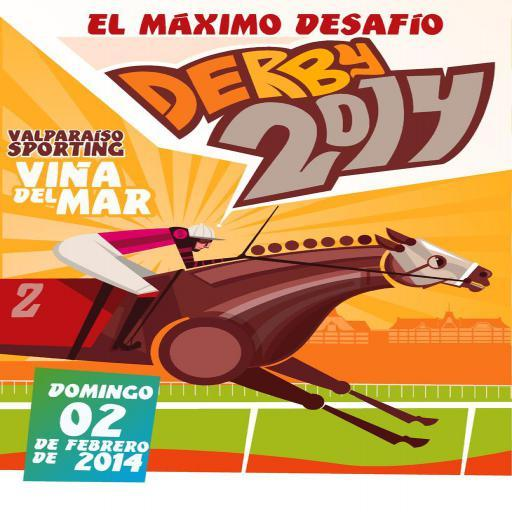Horse: (0, 228, 494, 447)
